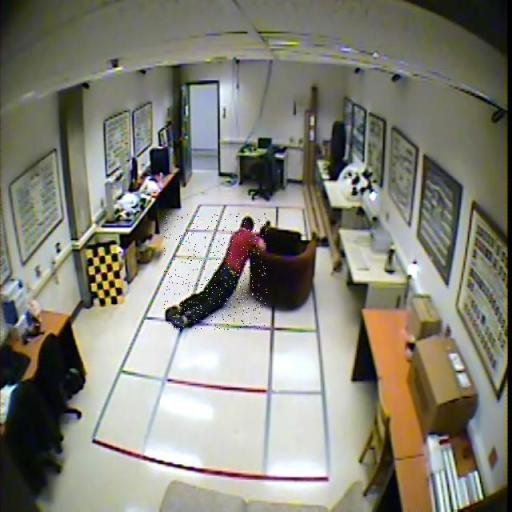Fall: (164, 214, 268, 330)
